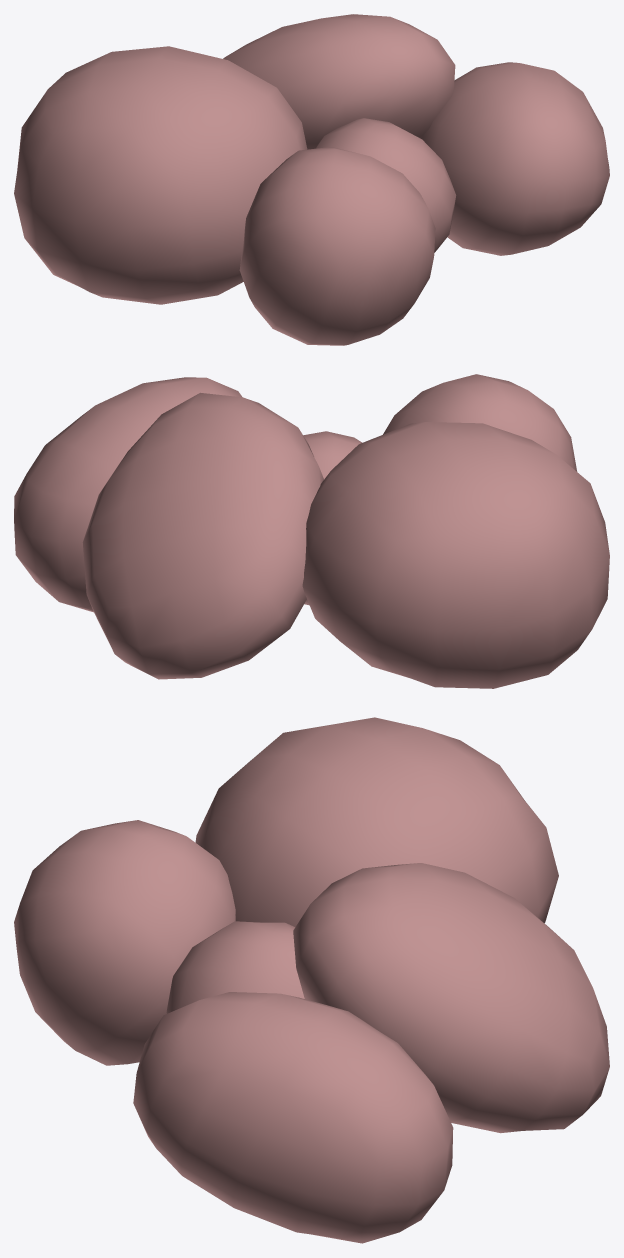
Rendered from SM_FruitPig.fbx.
3 views of the same model, one above another, from view 1: azimuth 30°, elevation 25°; view 2: azimuth 150°, elevation 25°; view 3: azimuth 270°, elevation 25° (orthographic). The views are drawn at different scales.
Visible parts, largest first — view 1: SM_Fruits_01, SM_Fruits_04, SM_Fruits_05, SM_Fruits_02, SM_Fruits_03; view 2: SM_Fruits_01, SM_Fruits_02, SM_Fruits_05, SM_Fruits_04, SM_Fruits_03; view 3: SM_Fruits_05, SM_Fruits_02, SM_Fruits_01, SM_Fruits_04, SM_Fruits_03.
Boxes of the visible parts, left/top/right/bottom form: SM_Fruits_01: left=14, top=46, right=307, bottom=304; SM_Fruits_04: left=239, top=147, right=435, bottom=345; SM_Fruits_05: left=421, top=62, right=609, bottom=255; SM_Fruits_02: left=223, top=14, right=455, bottom=149; SM_Fruits_03: left=315, top=118, right=456, bottom=252; SM_Fruits_01: left=302, top=422, right=609, bottom=688; SM_Fruits_02: left=82, top=392, right=323, bottom=679; SM_Fruits_05: left=14, top=377, right=242, bottom=612; SM_Fruits_04: left=383, top=374, right=577, bottom=471; SM_Fruits_03: left=303, top=431, right=362, bottom=605; SM_Fruits_05: left=133, top=992, right=453, bottom=1243; SM_Fruits_02: left=293, top=863, right=609, bottom=1133; SM_Fruits_01: left=195, top=717, right=558, bottom=926; SM_Fruits_04: left=14, top=820, right=235, bottom=1065; SM_Fruits_03: left=166, top=921, right=304, bottom=1013.
Size of the model in its own units: 41.11 by 17.74 by 32.25.
